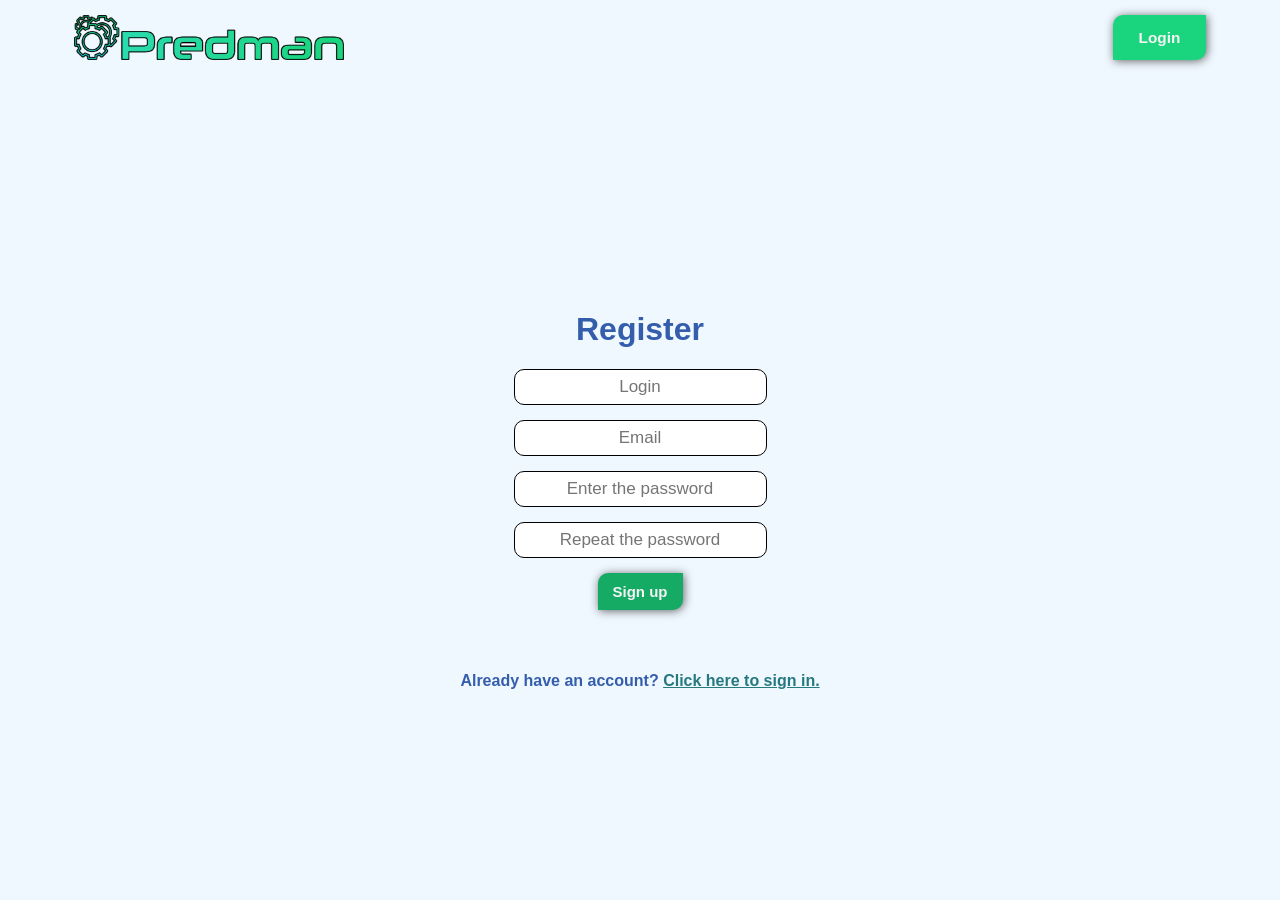
it: Register component › validates password and repeated password matching
The width and height of the screenshot is (1280, 900).
Type "testlogin" into the field with placeholder "Login" at [640, 387], box [514, 369, 766, 405]
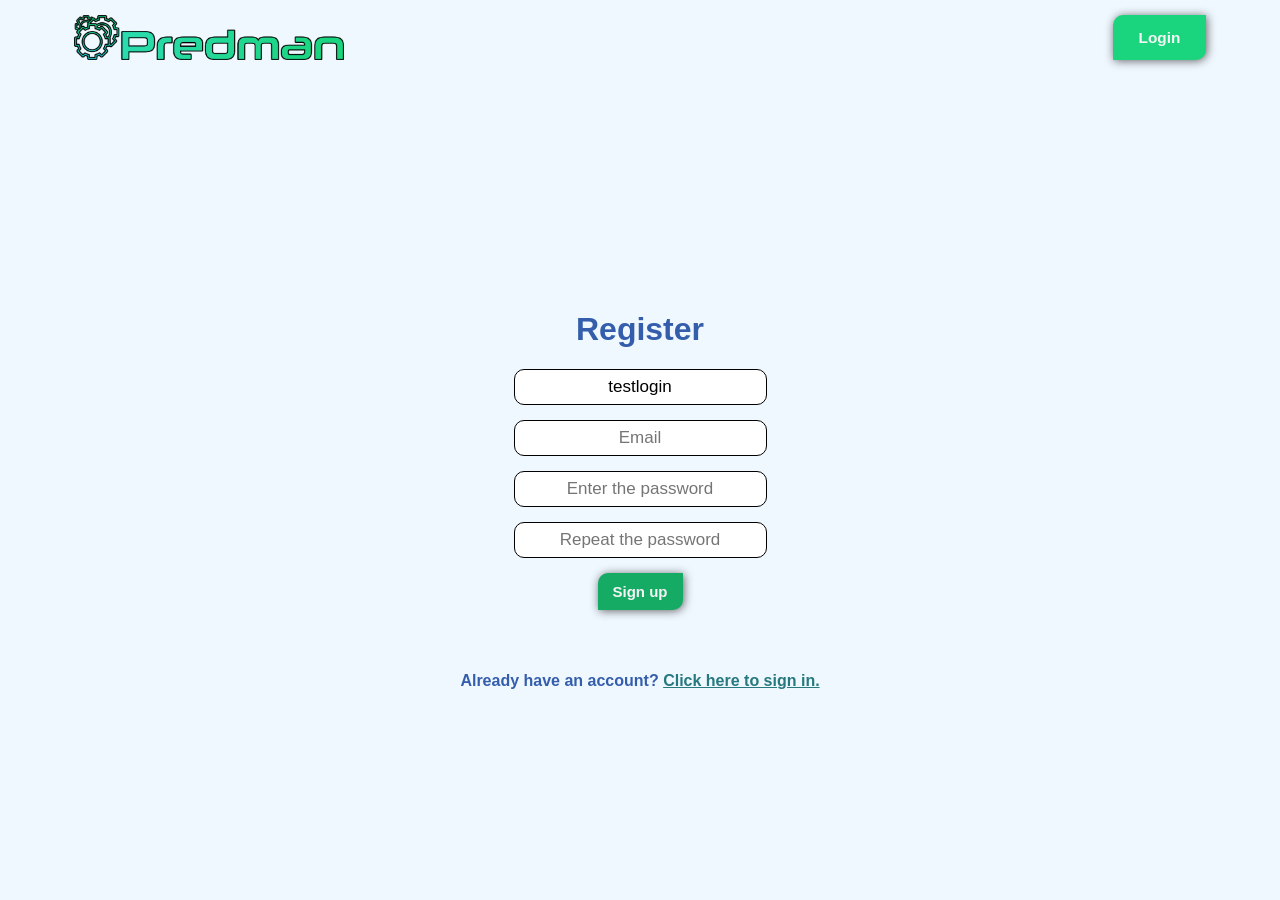
Type "test@example.com" into the field with placeholder "Email" at [640, 438], box [514, 420, 766, 456]
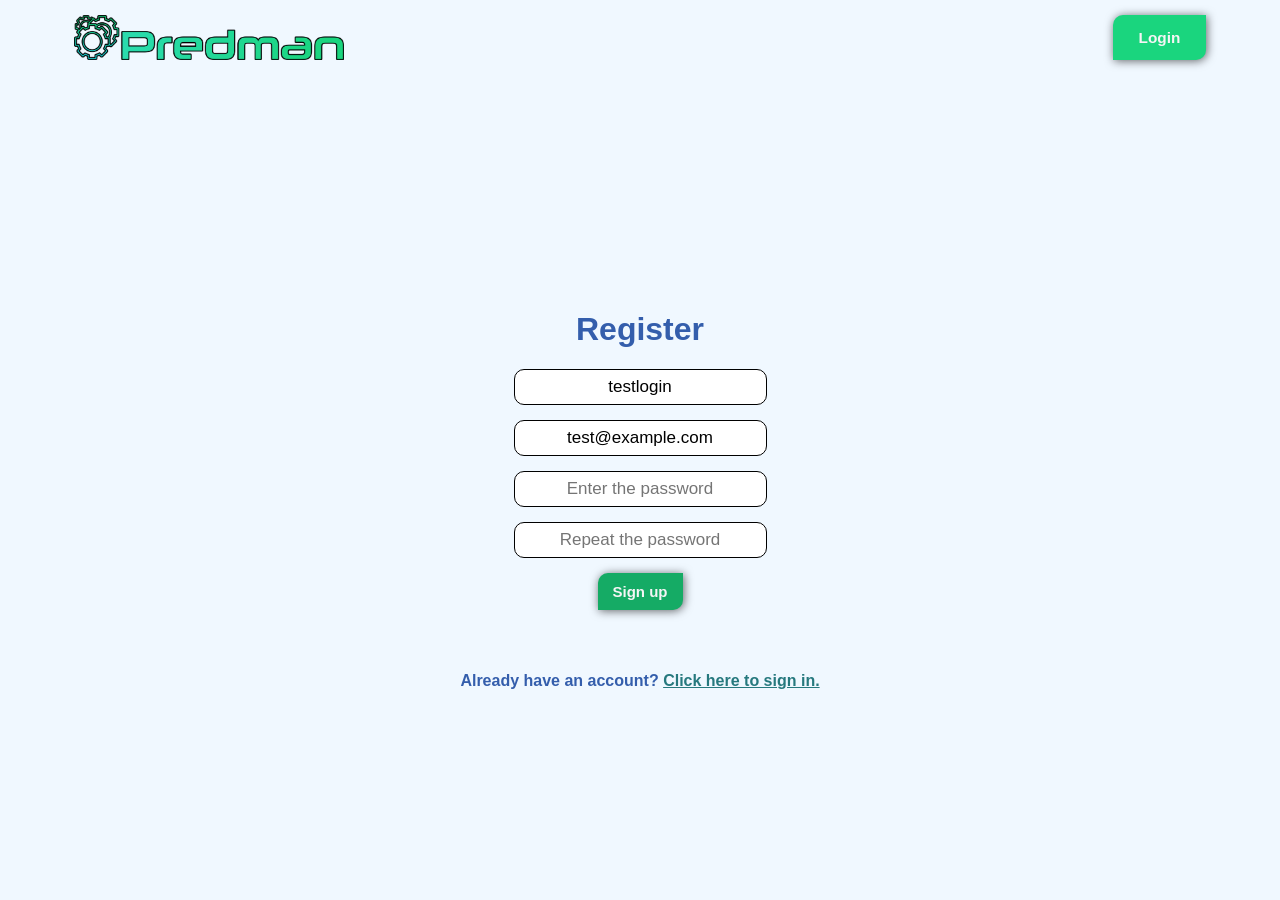
Type "Pass1!" into the password field with placeholder "Enter the password" at [640, 489], box [514, 471, 766, 507]
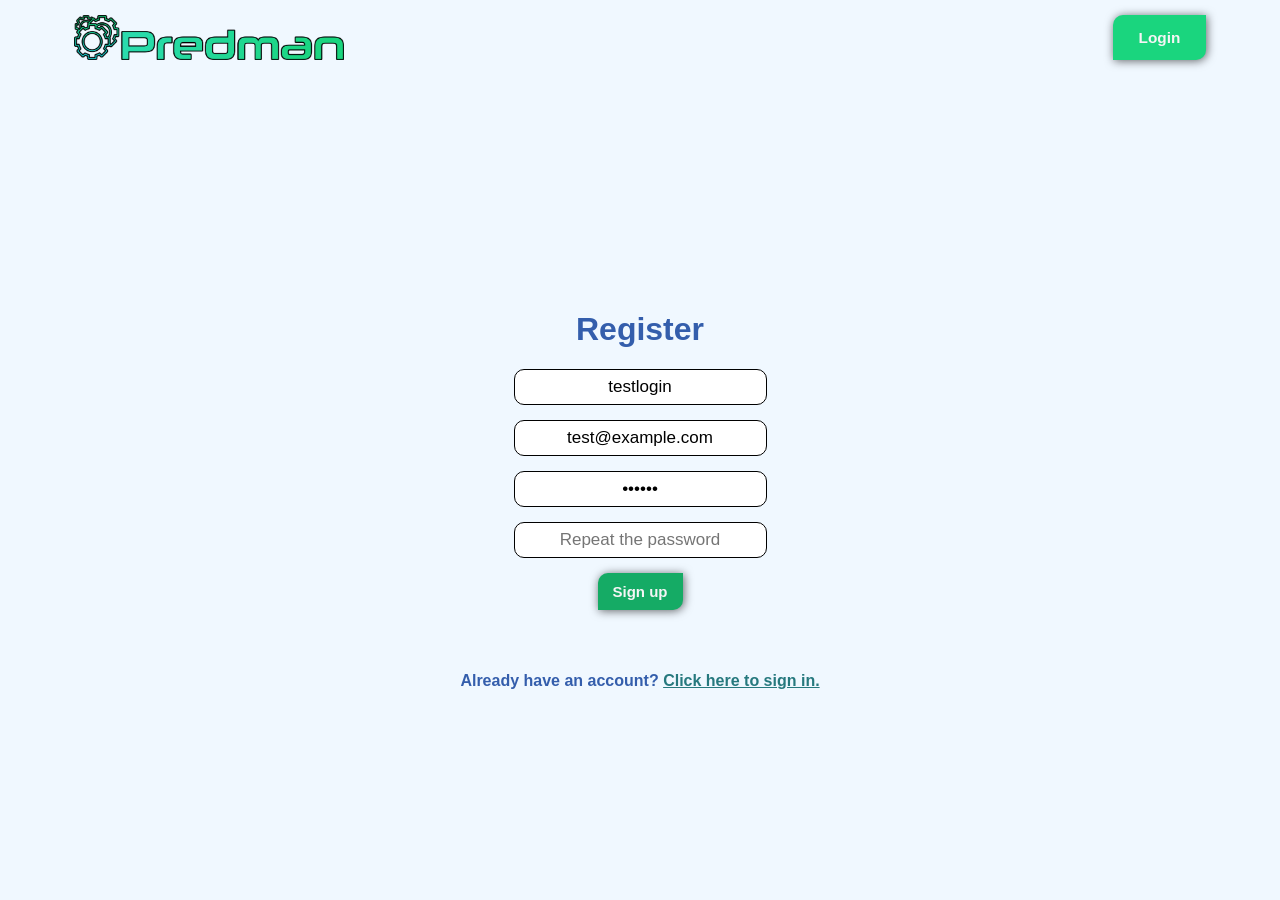
Type "Mismatch1!" into the password field with placeholder "Repeat the password" at [640, 540], box [514, 522, 766, 558]
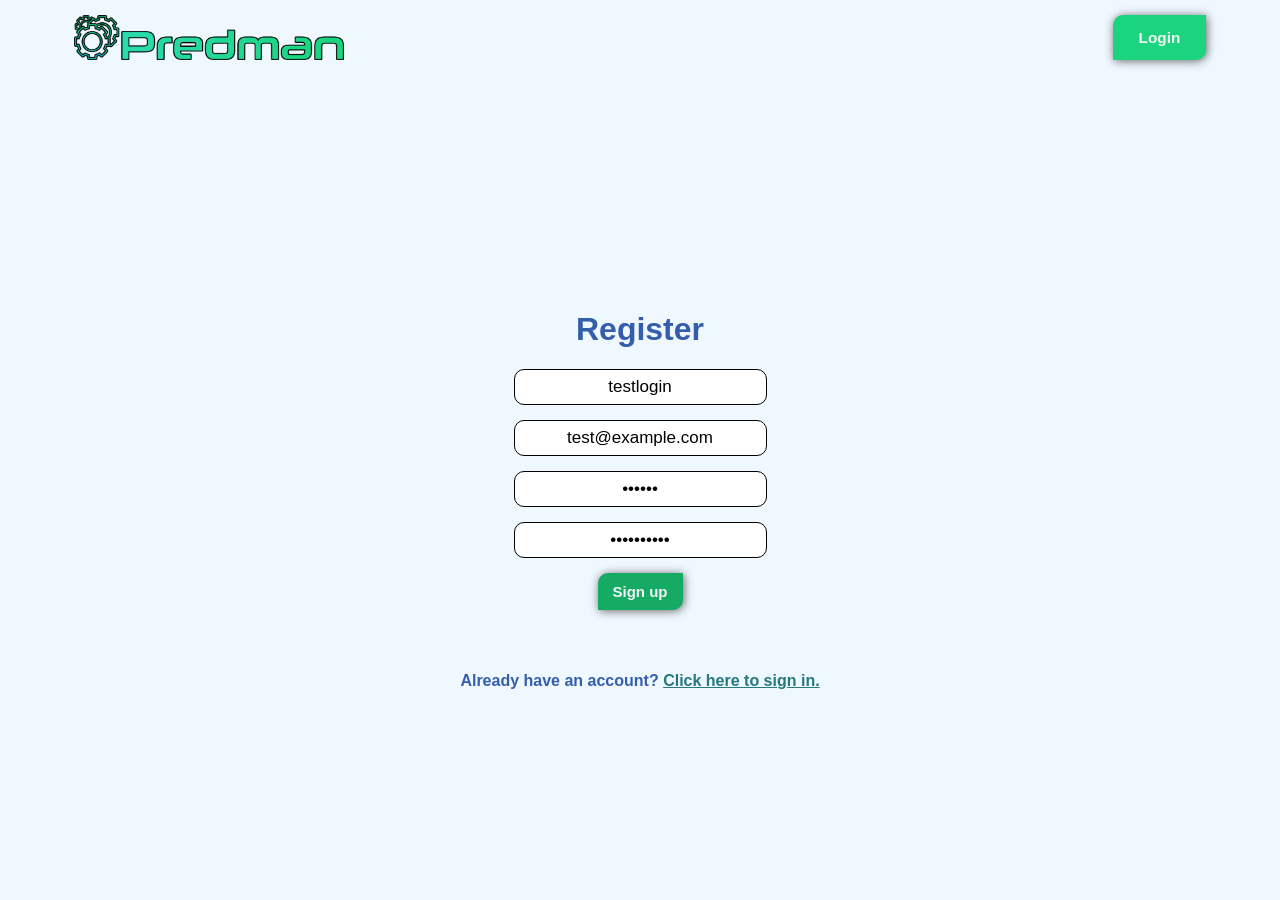
Click the button "Sign up" at [640, 592], box [598, 573, 682, 610]
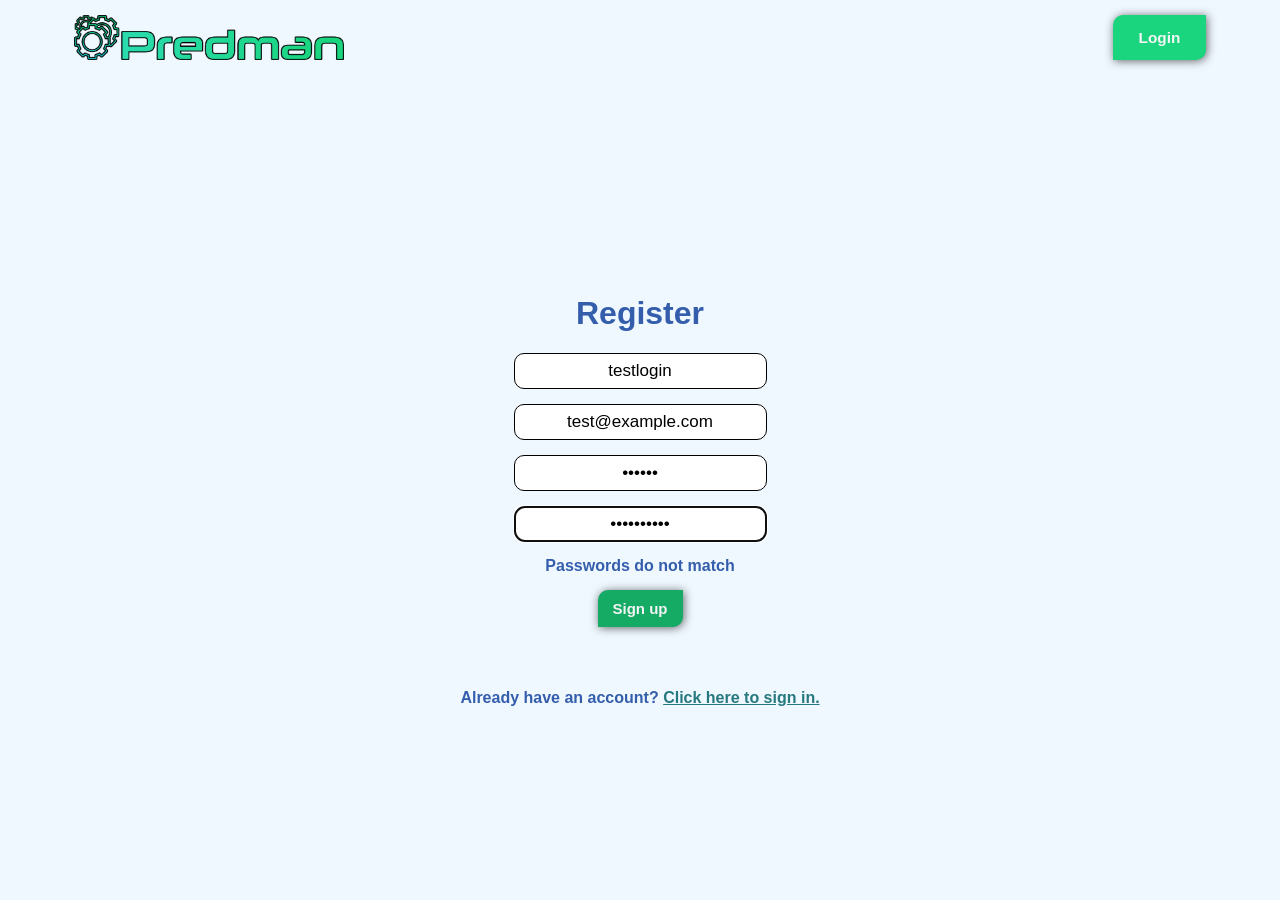
Now the text "Passwords do not match" is shown, box [545, 557, 735, 575]
